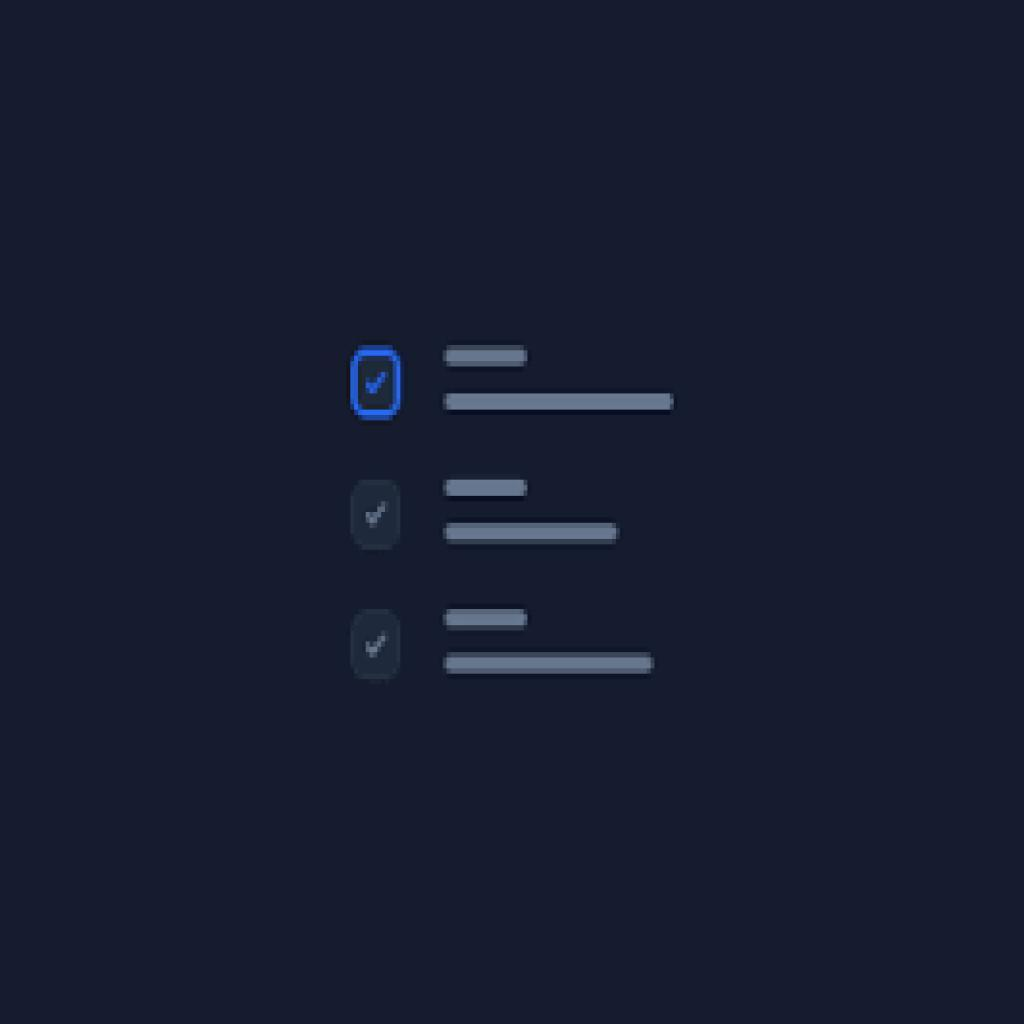checkbox: (346, 477, 406, 555), (349, 347, 405, 423), (350, 612, 405, 684)
